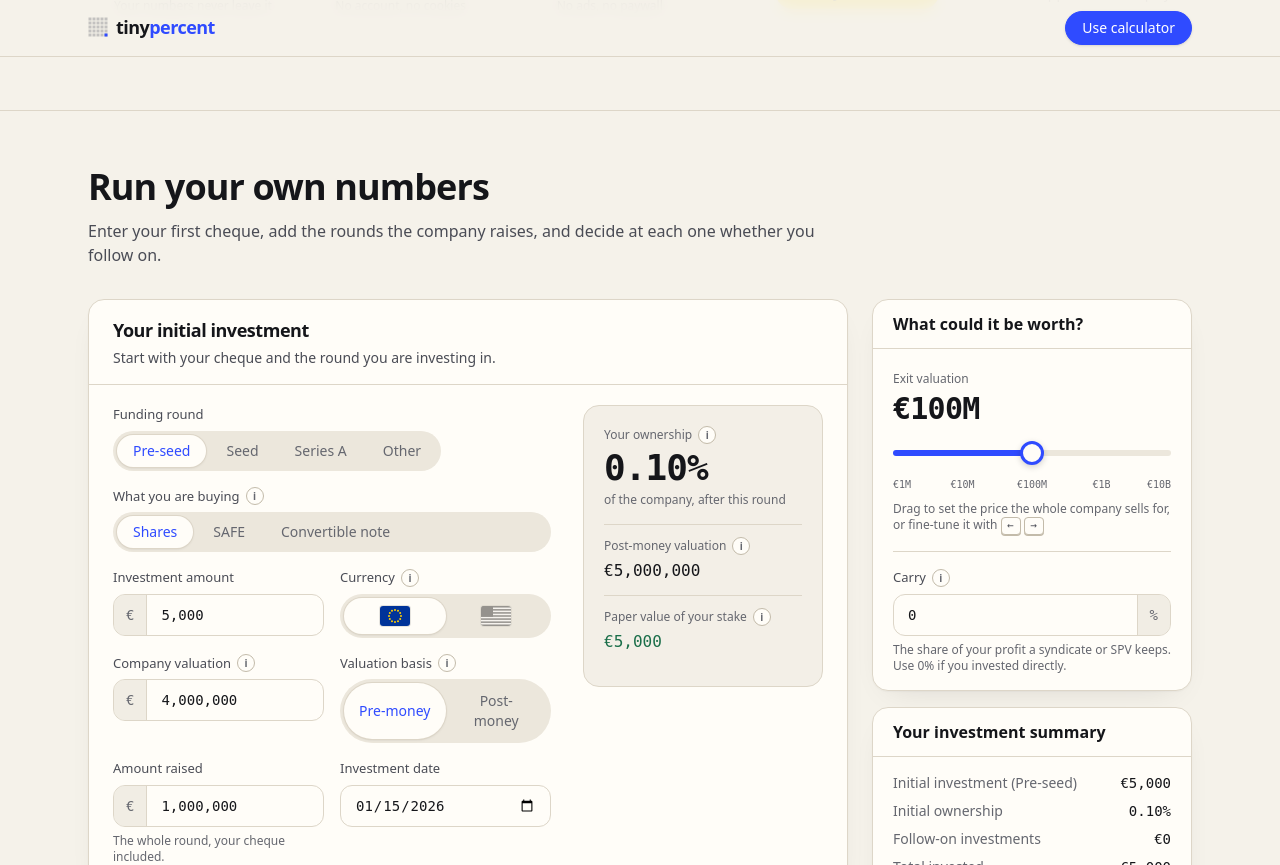
Test case: future rounds and the follow-on choice › offers a name typed for one round in the next round’s list
(page scrolled)
Click the radio button labelled "Other": (402, 450) 367,434 -> 437,466
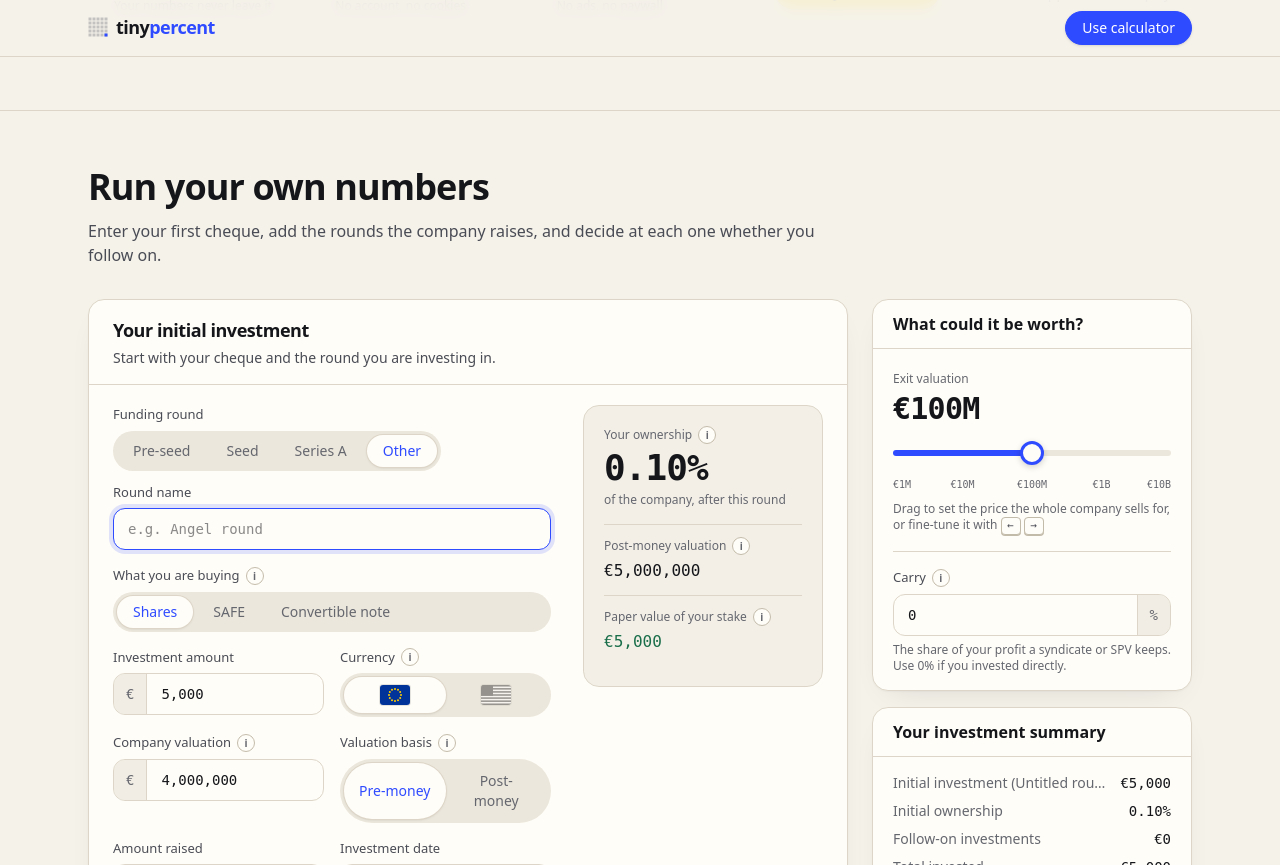
Expected: the field labelled "Round name" is empty
In the field labelled "Round name": (332, 529) 113,508 -> 551,550, type "Angel round"
(page scrolled)
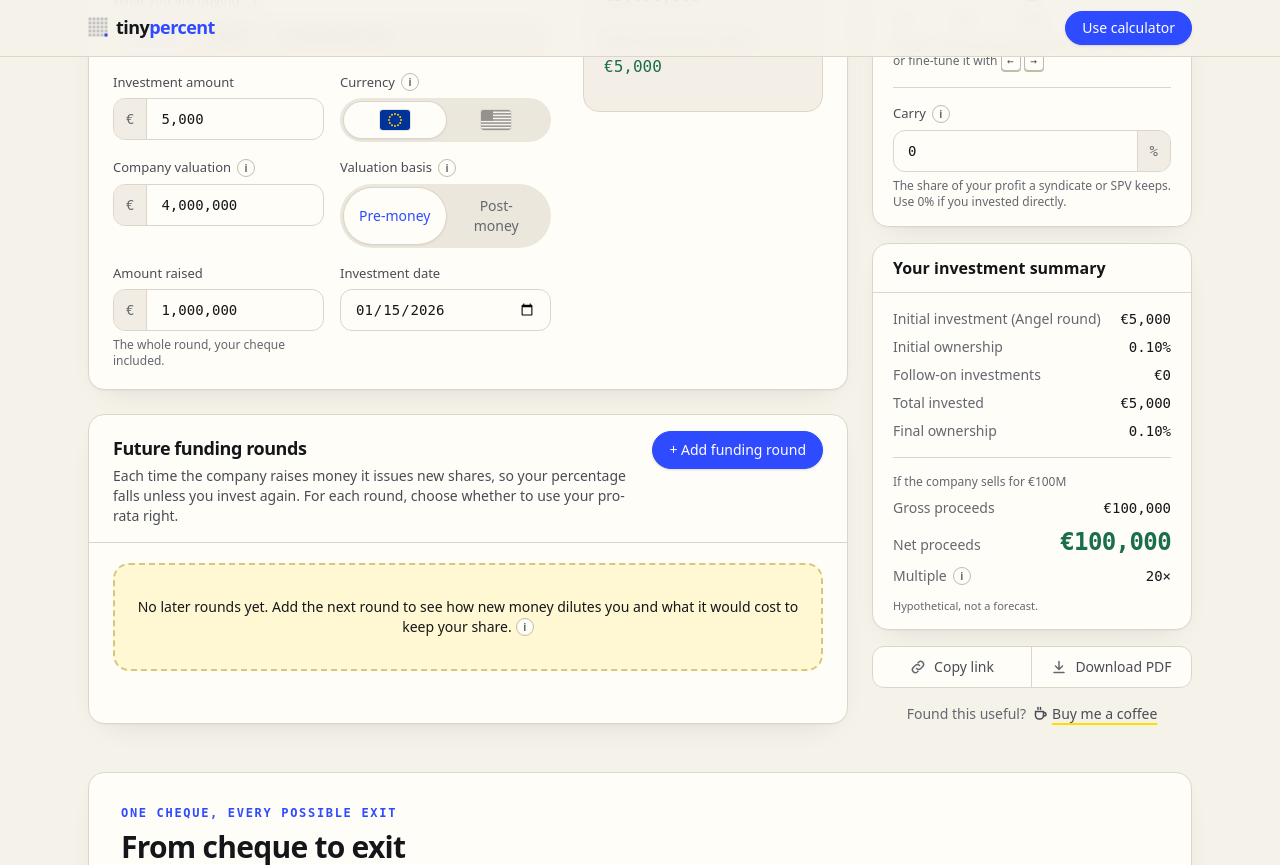
Click the button "+ Add funding round": (738, 450) 652,431 -> 823,469
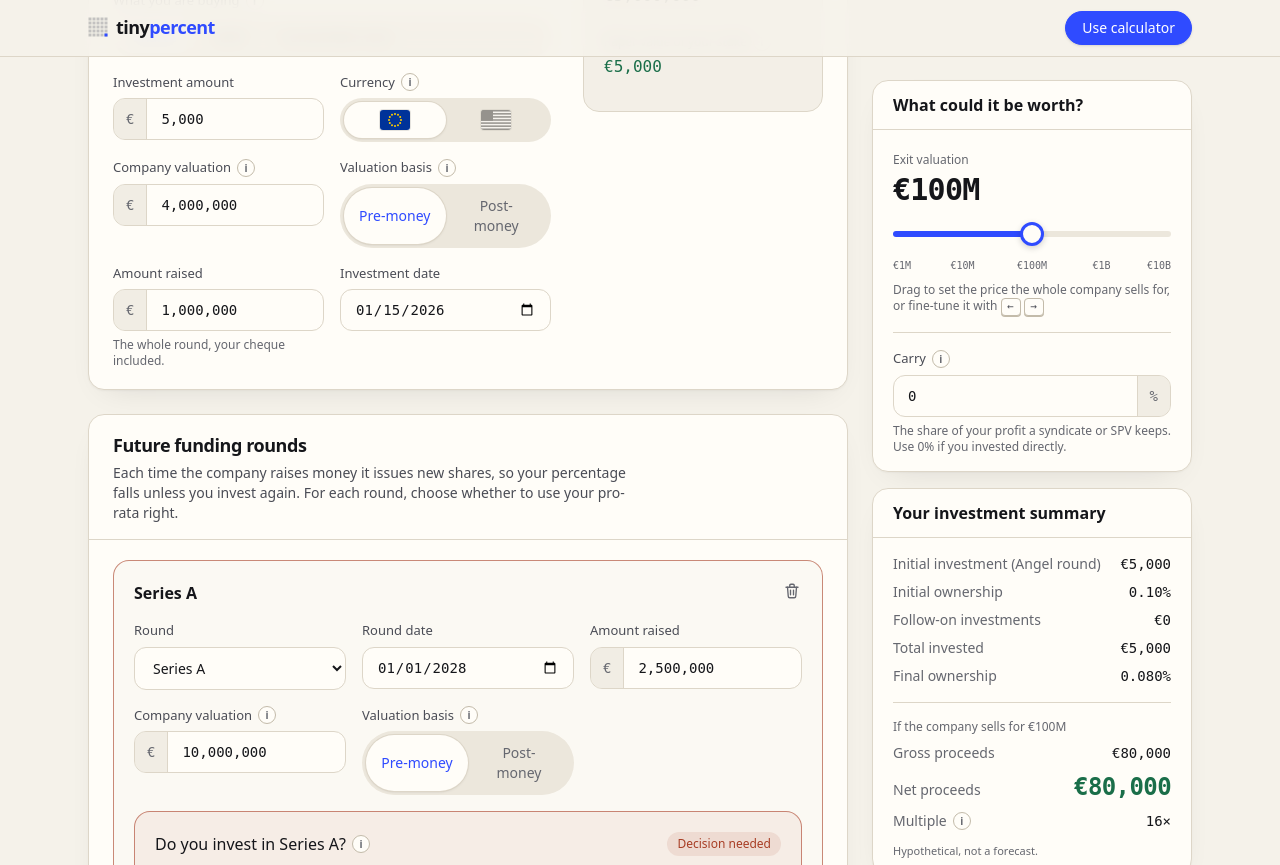
Select "Angel round" in the dropdown labelled "Round": (240, 668) 134,646 -> 346,690
(page scrolled)
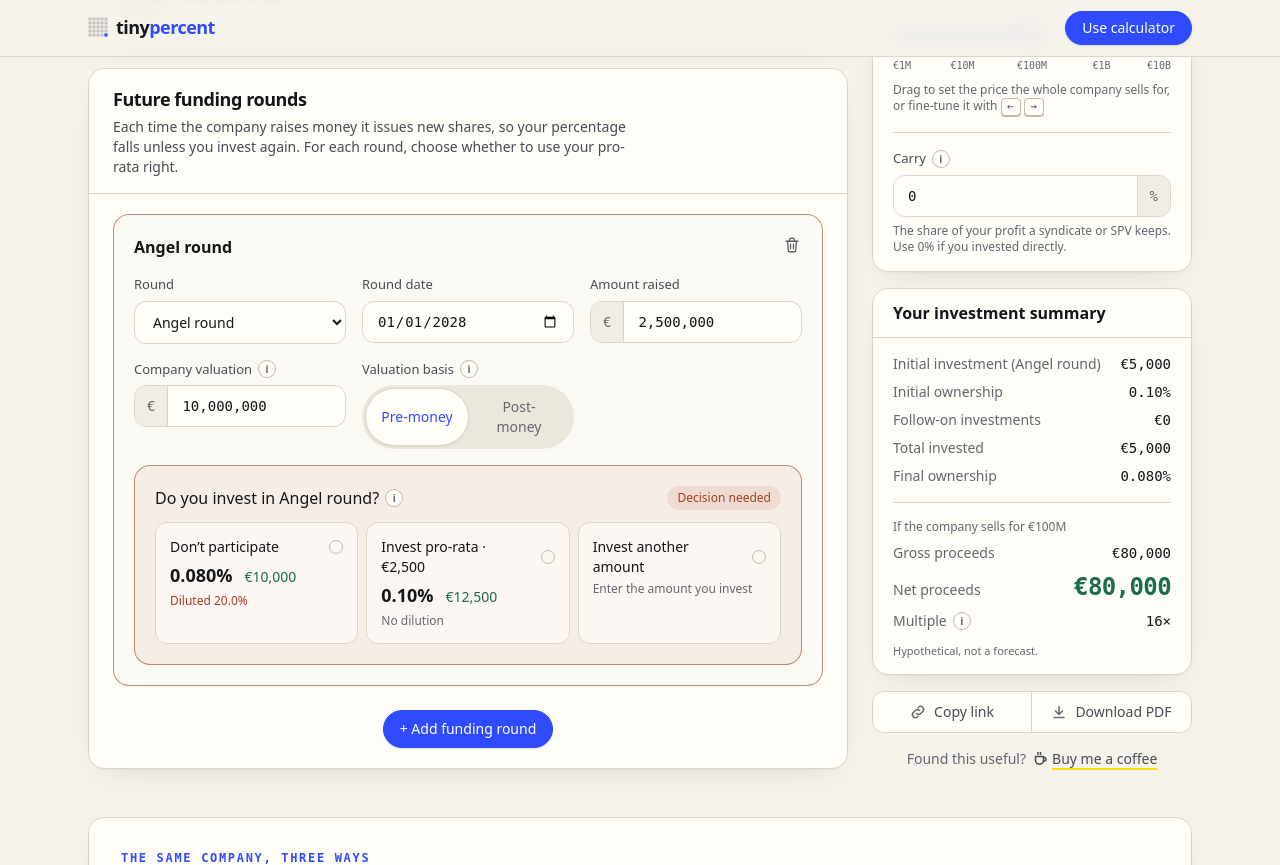
Expected: the field labelled "Round name" is not shown
Expected: the element "Angel round" is shown, 113,214 -> 823,686
